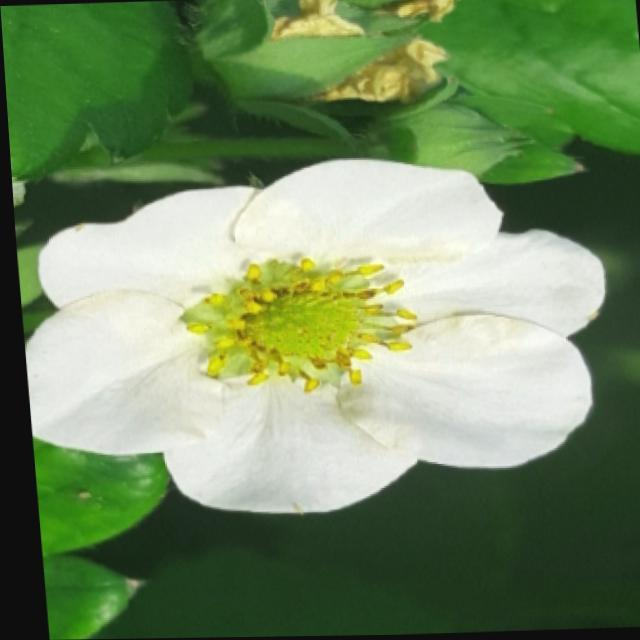Blossom Blight: (177, 254, 416, 407)
